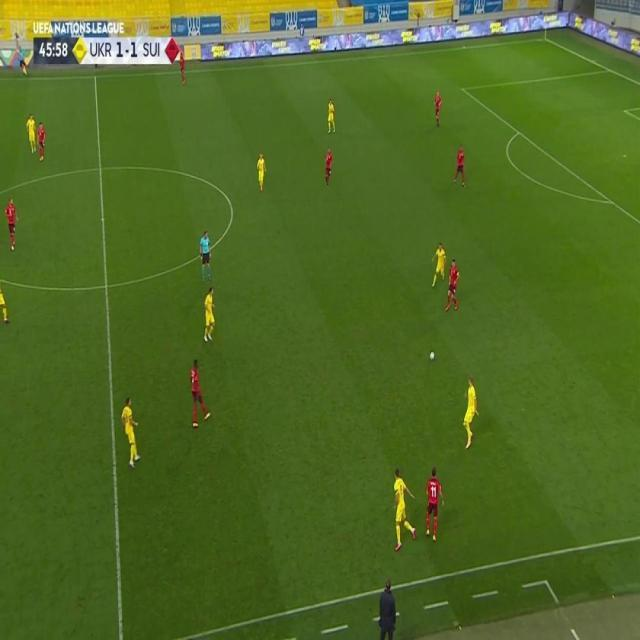ball: (428, 350, 435, 361)
goalkeeper: (199, 229, 213, 281)
player: (391, 468, 417, 551), (424, 467, 446, 542), (188, 357, 210, 427), (120, 396, 141, 467), (461, 375, 480, 450), (444, 258, 461, 313), (429, 242, 447, 287), (4, 197, 19, 250), (202, 288, 216, 344), (453, 145, 468, 187), (26, 113, 37, 155), (257, 151, 267, 193), (324, 146, 334, 187), (326, 98, 336, 135), (37, 121, 46, 162), (434, 90, 443, 128), (179, 51, 186, 87)
referee: (17, 44, 29, 77)
